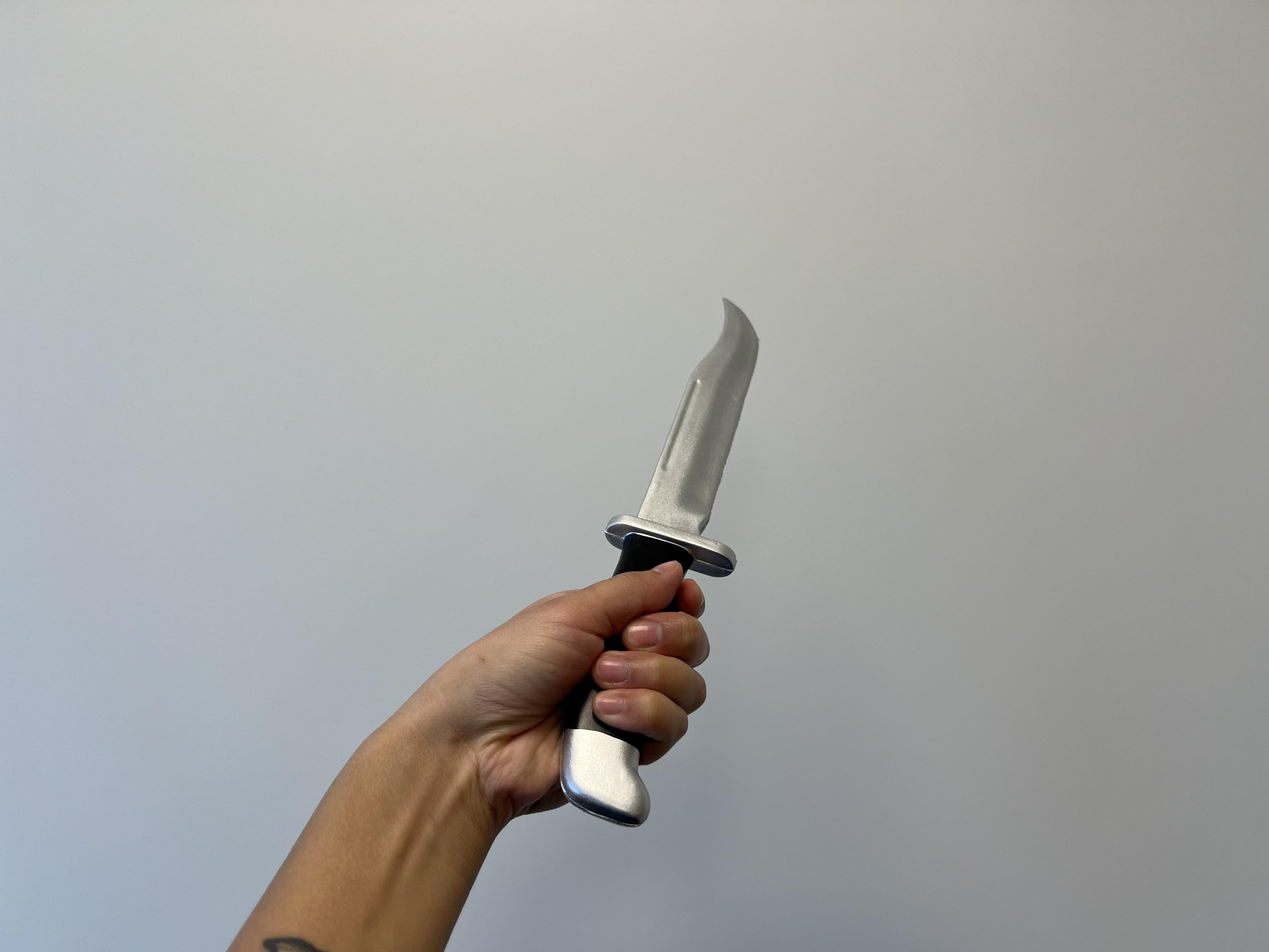Knife: (229, 565, 711, 952), (460, 560, 710, 827), (611, 295, 759, 576)
